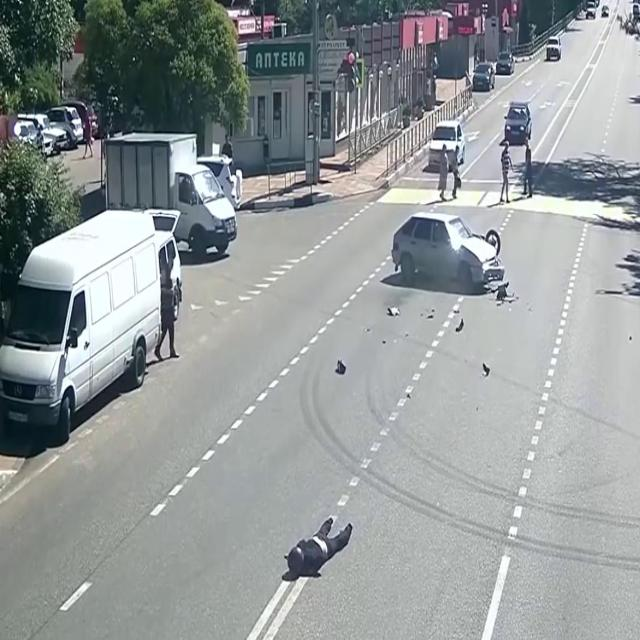accident: (329, 208, 519, 412), (273, 500, 363, 596)
non_accident: (0, 122, 250, 458), (424, 107, 468, 205), (467, 46, 517, 96)
